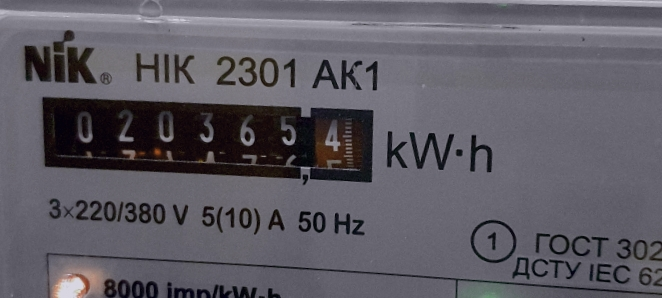0: (73, 108, 97, 144), (155, 107, 177, 145)
2: (113, 107, 138, 144)
3: (196, 108, 217, 144)
4: (322, 117, 344, 152)
5: (277, 113, 299, 147)
6: (236, 111, 259, 148)
screen: (20, 71, 396, 204)
